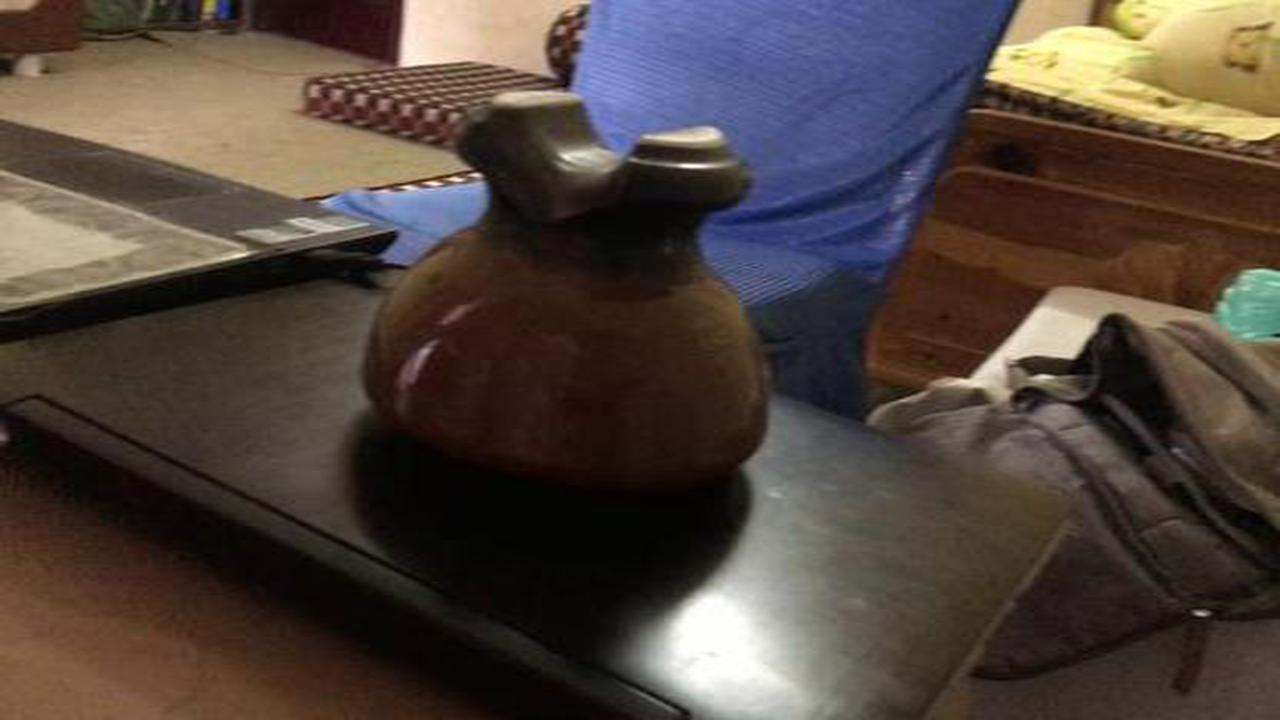insulator_pin: (341, 71, 801, 523)
